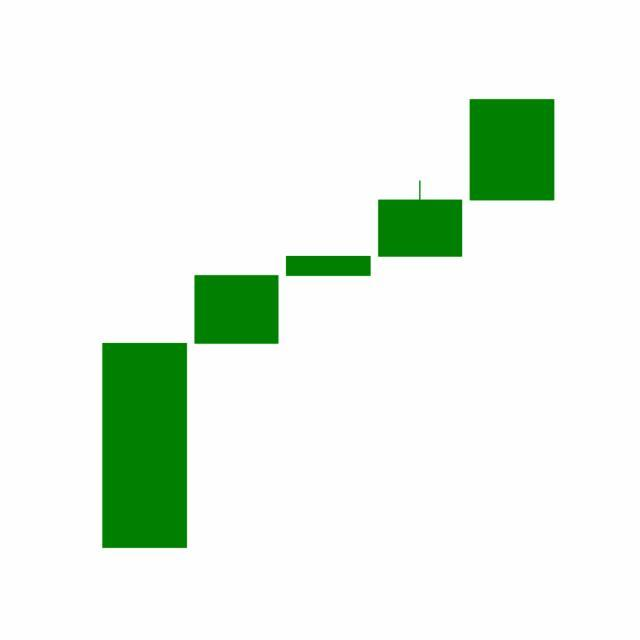Marubozu: (466, 98, 559, 202)
